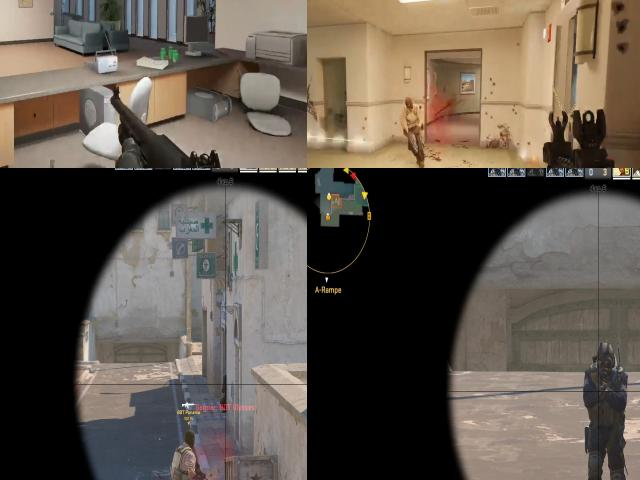CT: (587, 343, 627, 480), (222, 376, 227, 412)
CT-Head: (597, 344, 614, 377), (224, 376, 226, 382)
Dead: (397, 90, 430, 163)
T: (173, 432, 195, 480)
T-Head: (185, 432, 195, 446)
